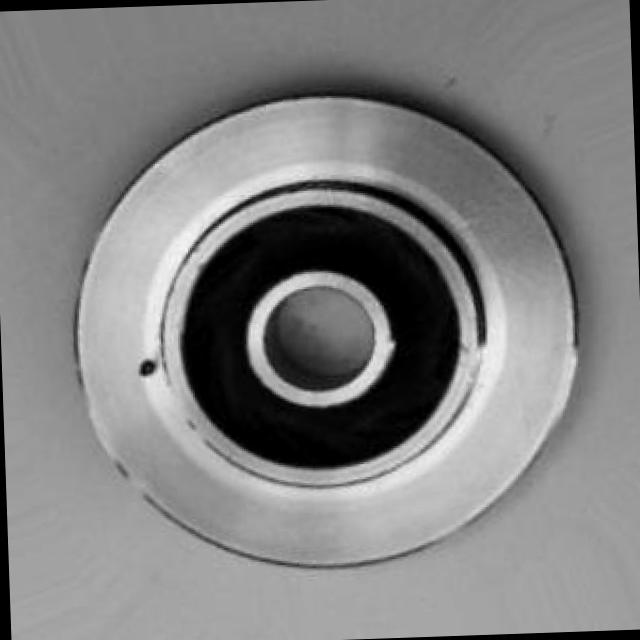Defect: (134, 356, 162, 378)
